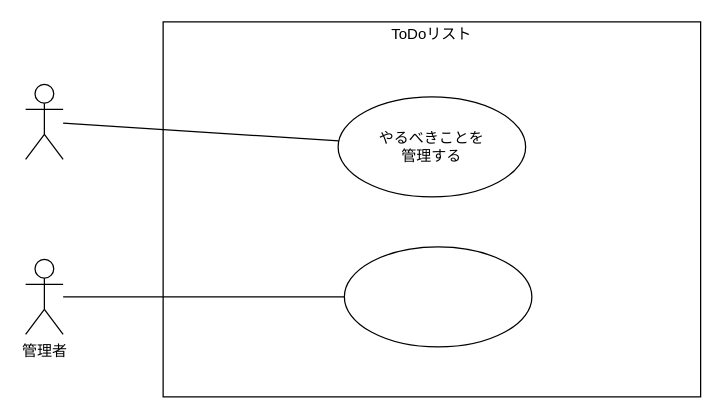
Some shapes in this 723 by 419 pixel diagram are drawn without their labels. Each missing label, with the box of its shape:
利用者: (24, 83, 63, 159)
利用者全員のやるべきことを管理する: (343, 246, 532, 347)
